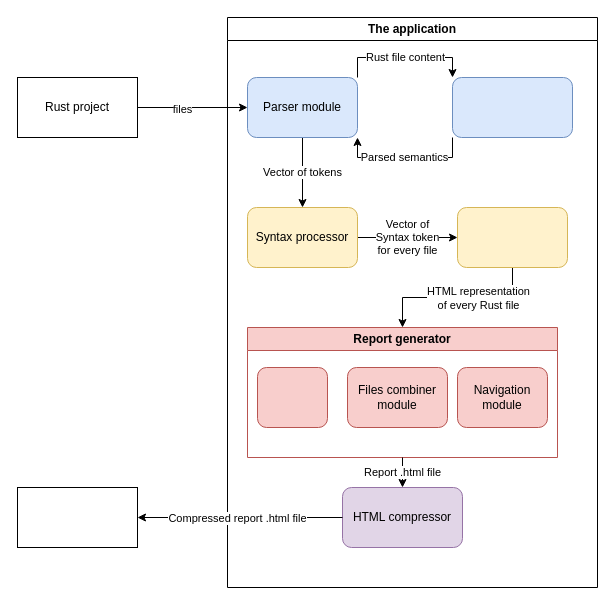
Some shapes in this 615 by 605 pixel diagram are drawn without their labels. The box of each missing label's shape, as (x1, y1, x2, y2) in pixels:
HTML generator: (456, 206, 568, 268)
HTML Report: (16, 486, 138, 548)
Rust-analyzer library: (452, 76, 572, 138)
Tree module: (256, 366, 328, 428)
